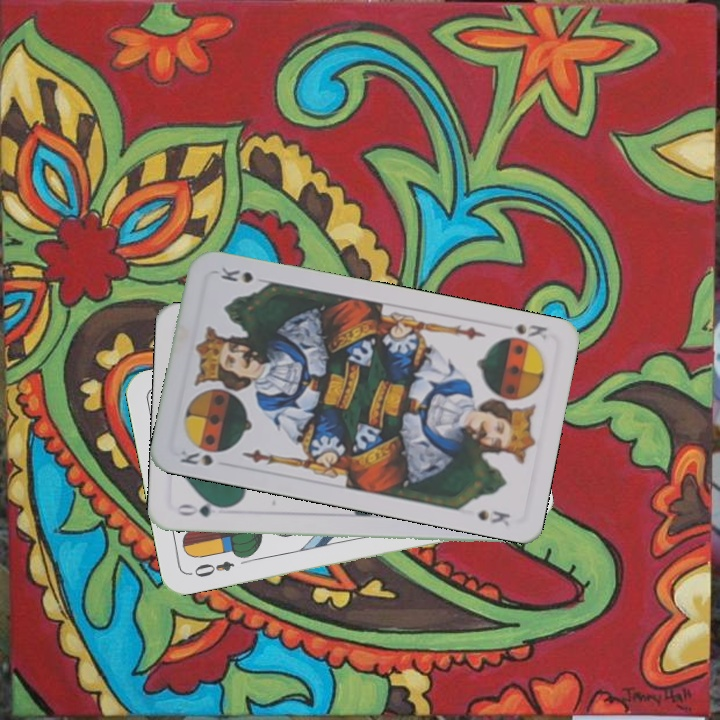EO: (185, 557, 237, 580)
GO: (172, 497, 231, 520)
SK: (509, 319, 550, 342), (176, 446, 216, 469)
